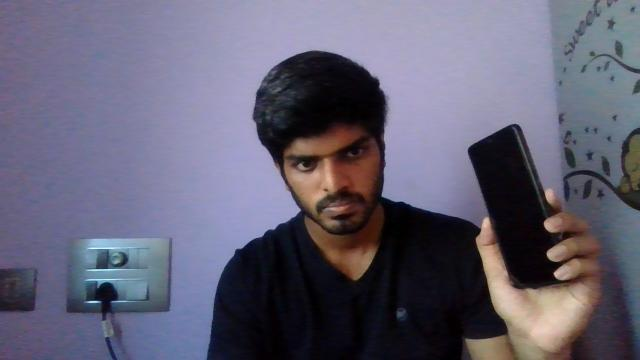PhoneUse: (465, 121, 579, 291)
SafeDriving: (336, 137, 371, 166), (286, 148, 322, 174)
